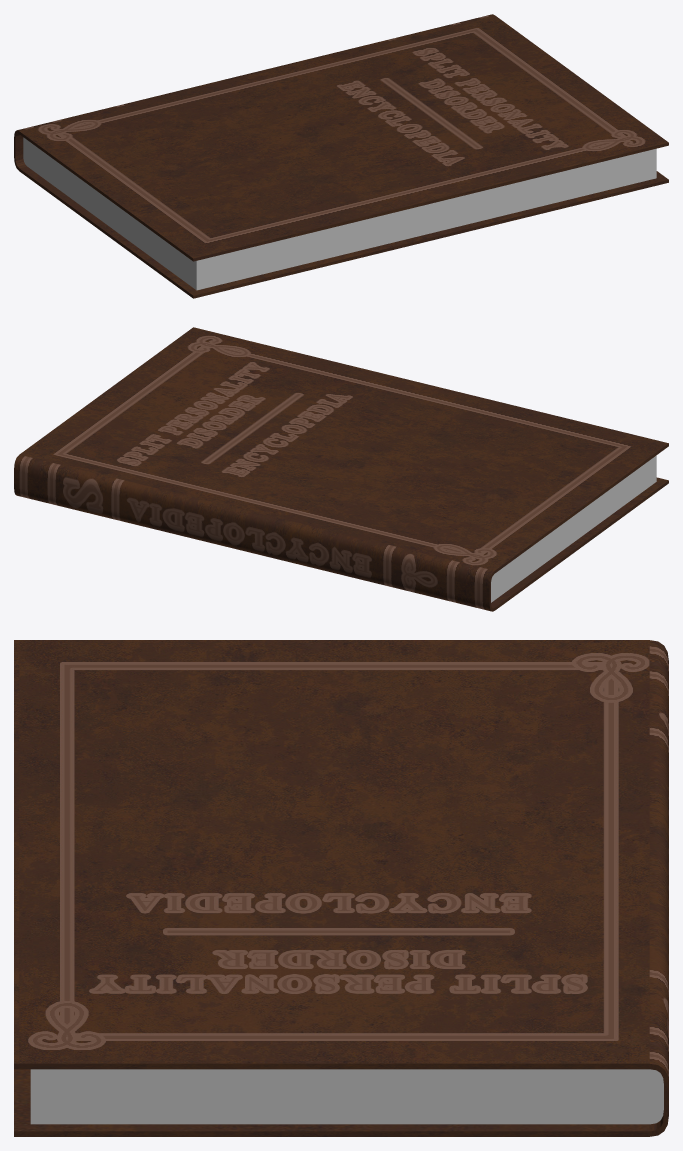
File: book 4.fbx
The picture shows the model from 3 angles, top to bottom: view 1: azimuth 30°, elevation 25°; view 2: azimuth 150°, elevation 25°; view 3: azimuth 270°, elevation 25°; orthographic projection. The views are drawn at different scales.
Visible parts, largest first — view 1: Box001; view 2: Box001; view 3: Box001.
Boxes of the visible parts, <box> form: Box001: <box>14,14,668,298</box>; Box001: <box>14,327,668,611</box>; Box001: <box>14,640,668,1136</box>.
Bounding box in the file's own units: 65.96 × 5.31 × 43.1.
